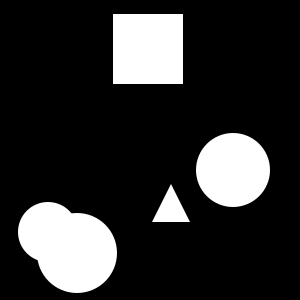circle: (113, 14, 183, 84)
rectangle: (37, 213, 117, 293), (196, 133, 270, 207), (18, 202, 78, 262)
triangle: (152, 184, 190, 222)
